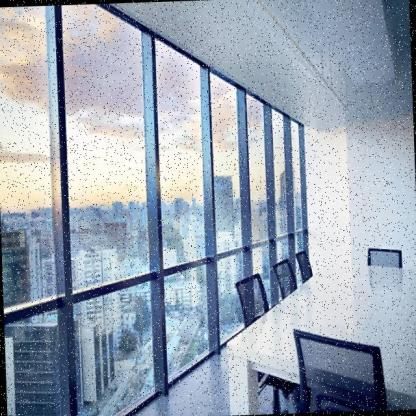Window: (59, 1, 165, 416), (154, 28, 221, 395), (209, 71, 256, 354)
